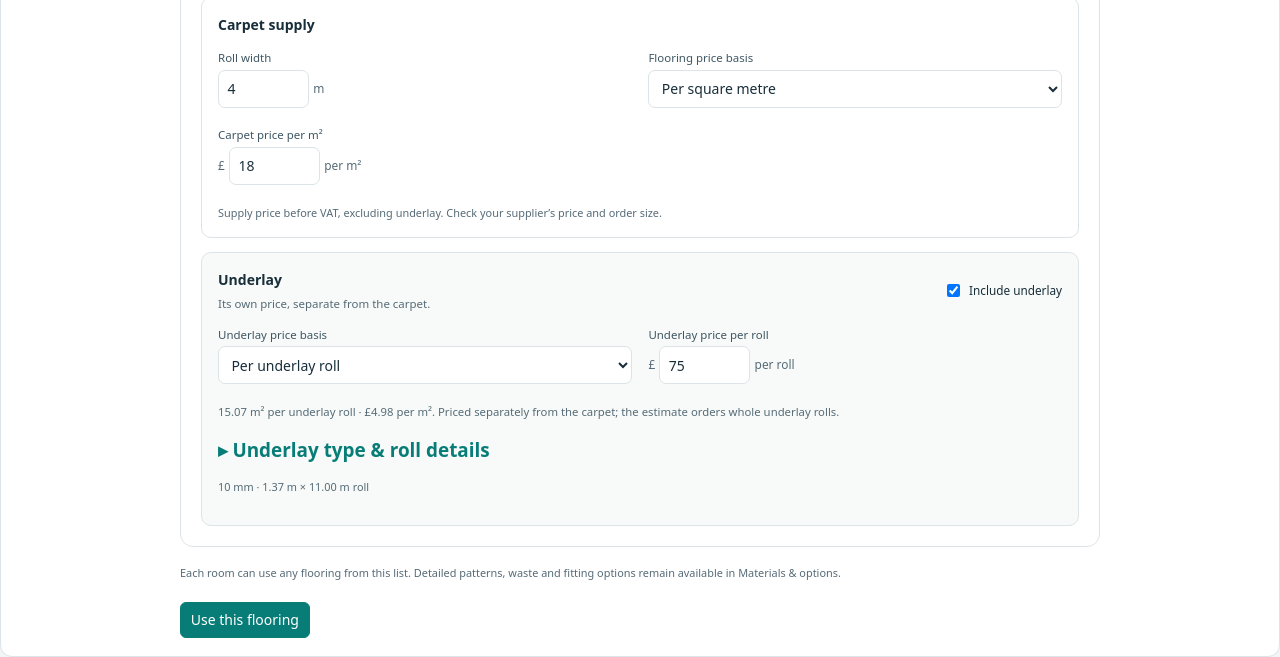
guided project setup › retains saved underlay prices when temporarily reusing existing underlay
(page scrolled)
Replace the text in the number field named "Guide underlay price per roll" with "84". click: (705, 365)
box: [659,346,750,384]
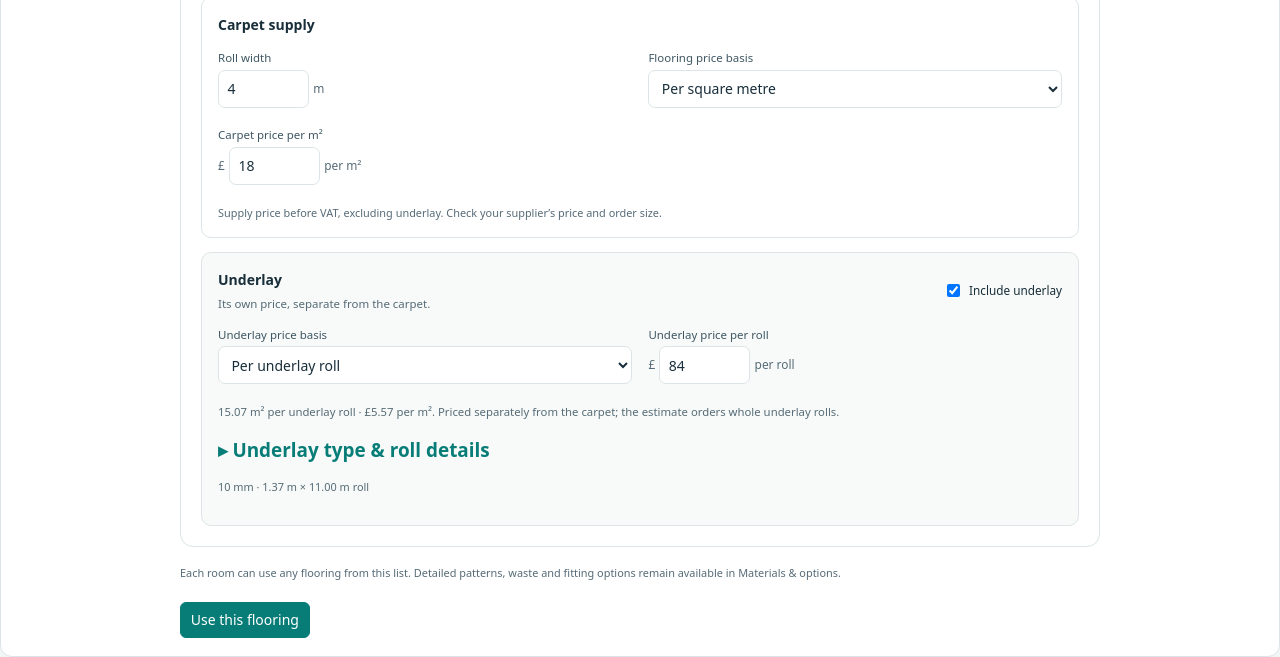
Click the checkbox labelled "Include underlay". click: (954, 291)
box: [948,284,960,298]
(page scrolled)
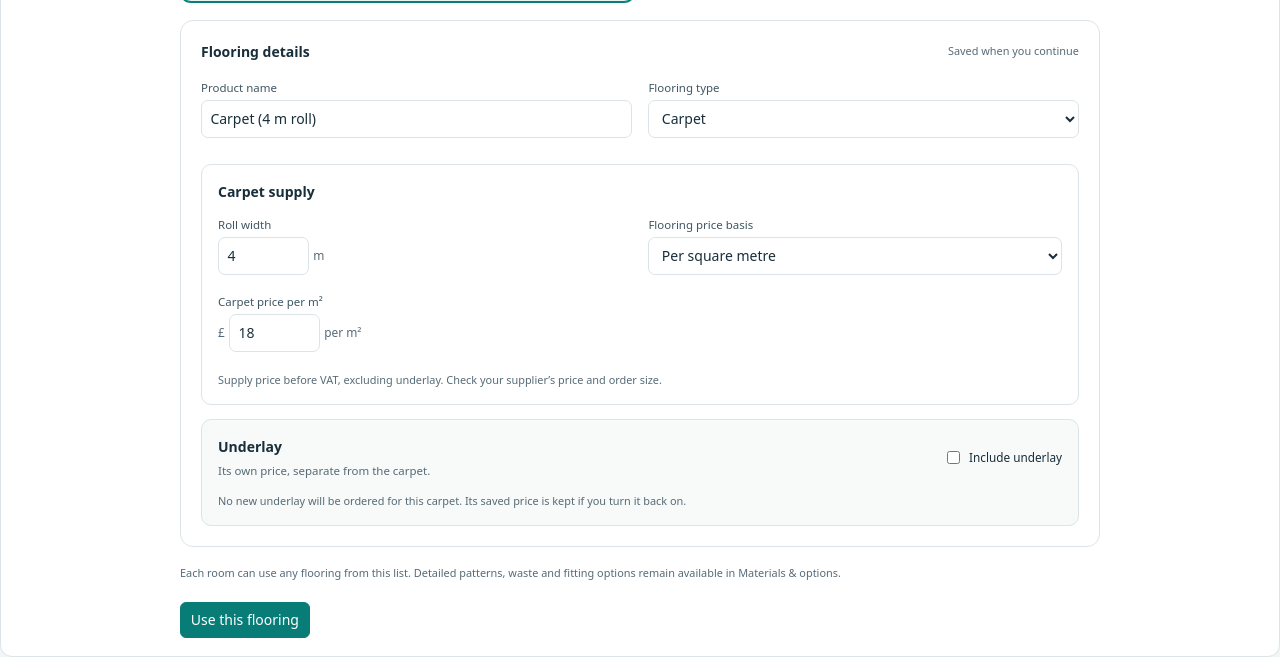
Click the checkbox labelled "Include underlay". click: (954, 458)
box: [948,452,960,464]
(page scrolled)
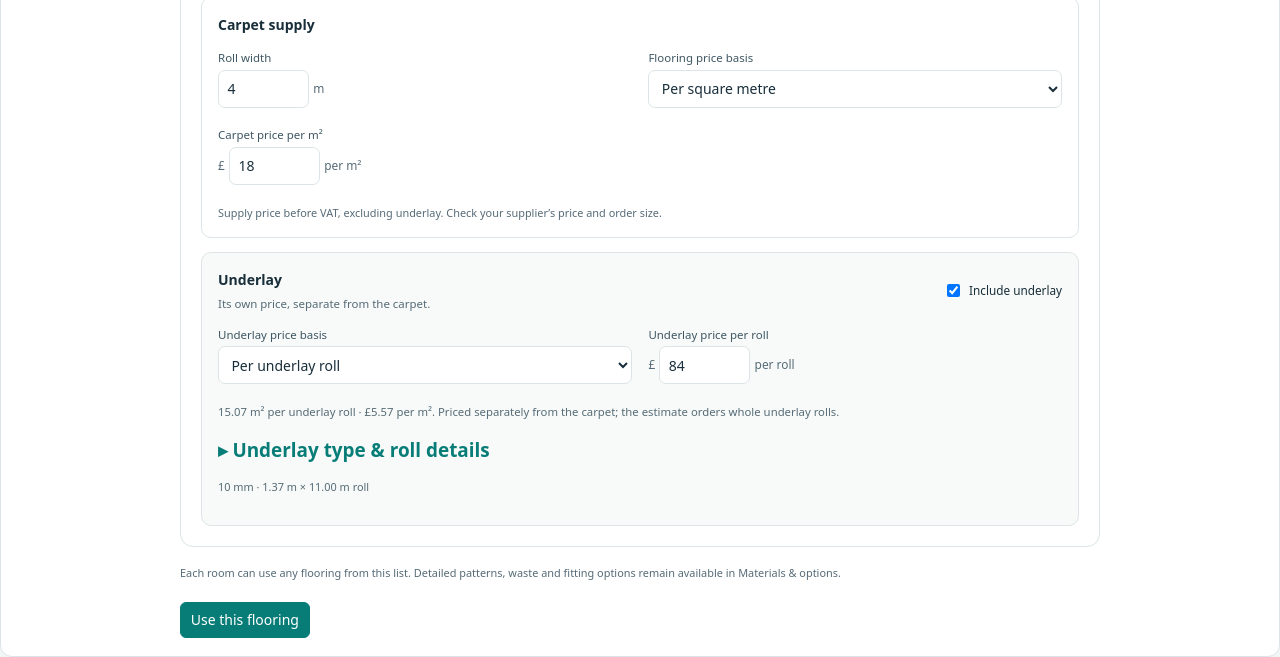
expect the number field named "Guide underlay price per roll" holds "84": met, box [659,346,750,384]
